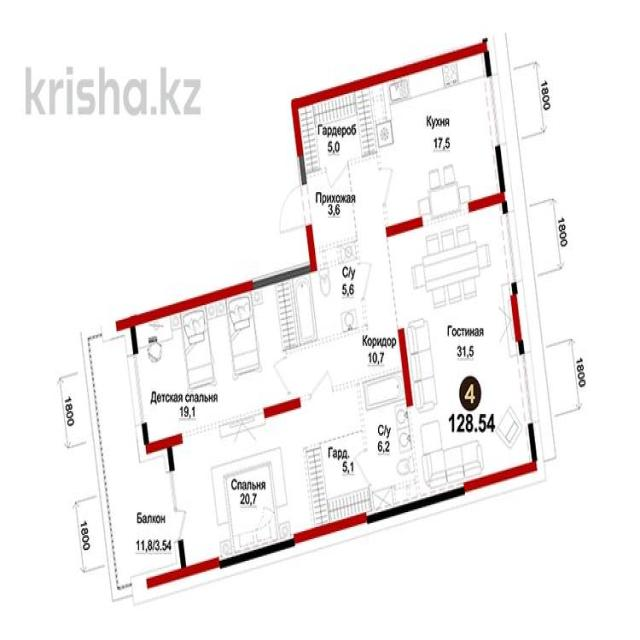balcony: (77, 321, 187, 611)
bathroom: (358, 372, 424, 512), (285, 242, 368, 351)
hallway: (293, 161, 403, 401)
kitchen: (367, 41, 505, 235)
living_room: (389, 197, 539, 503), (132, 279, 292, 451), (171, 403, 326, 575)
other: (298, 89, 375, 179), (319, 436, 375, 530)
